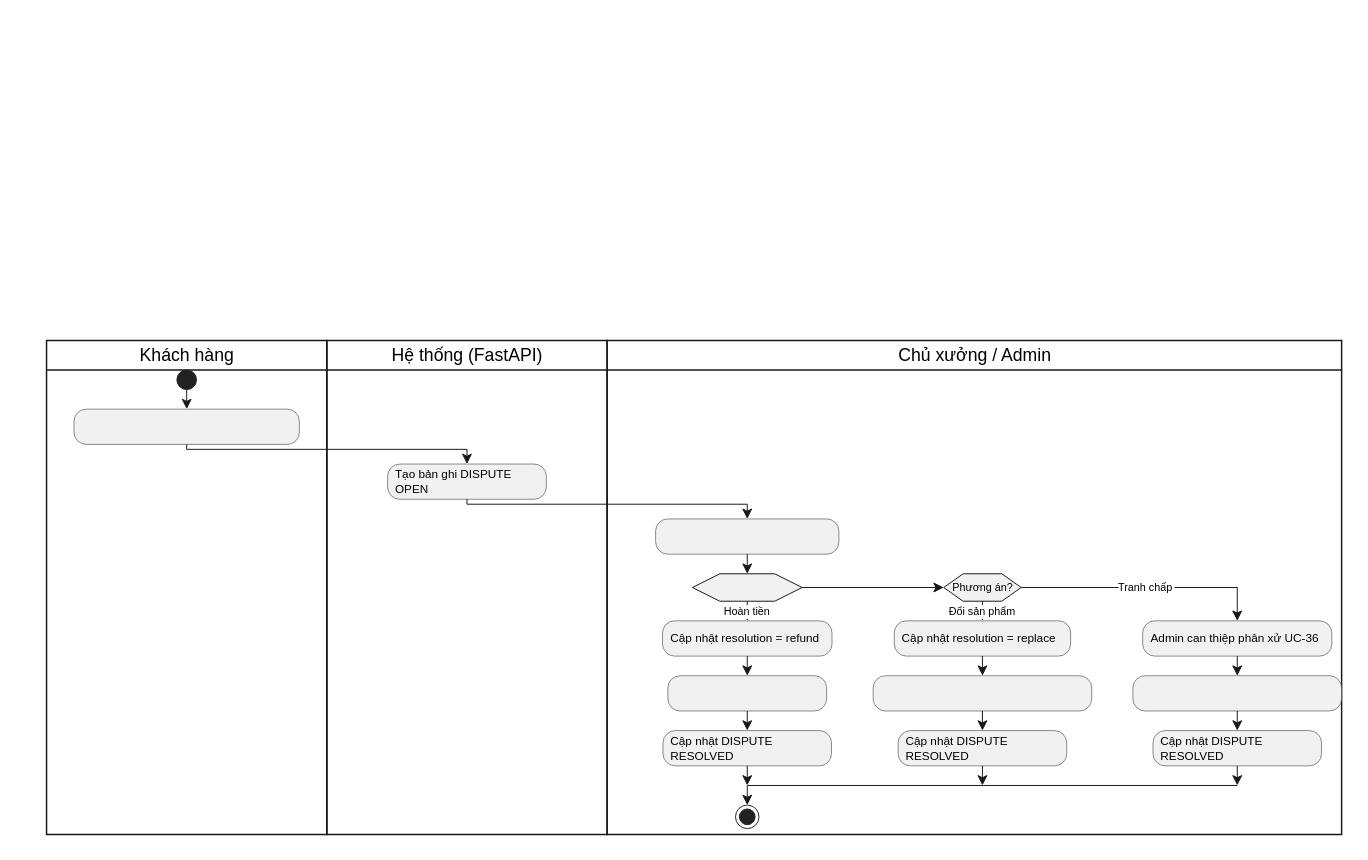
Some shapes in this 1368 by 860 pixel diagram are drawn without their labels. Here are the shapes that lost their labels. From the top down, the centre of each, then its label:
At (x=186, y=426): "Gửi yêu cầu DISPUTE kèm ảnh vỡ hỏng".
At (x=747, y=536): "Xem chi tiết yêu cầu khiếu nại".
At (x=746, y=587): "Phương án xử lý?".
At (x=746, y=693): "Tạo PAYMENT loại REFUND".
At (x=982, y=693): "Tạo SHIPMENT mới cho hàng thay thế".
At (x=1236, y=693): "Ghi lịch sử xấu xưởng nếu vi phạm".
